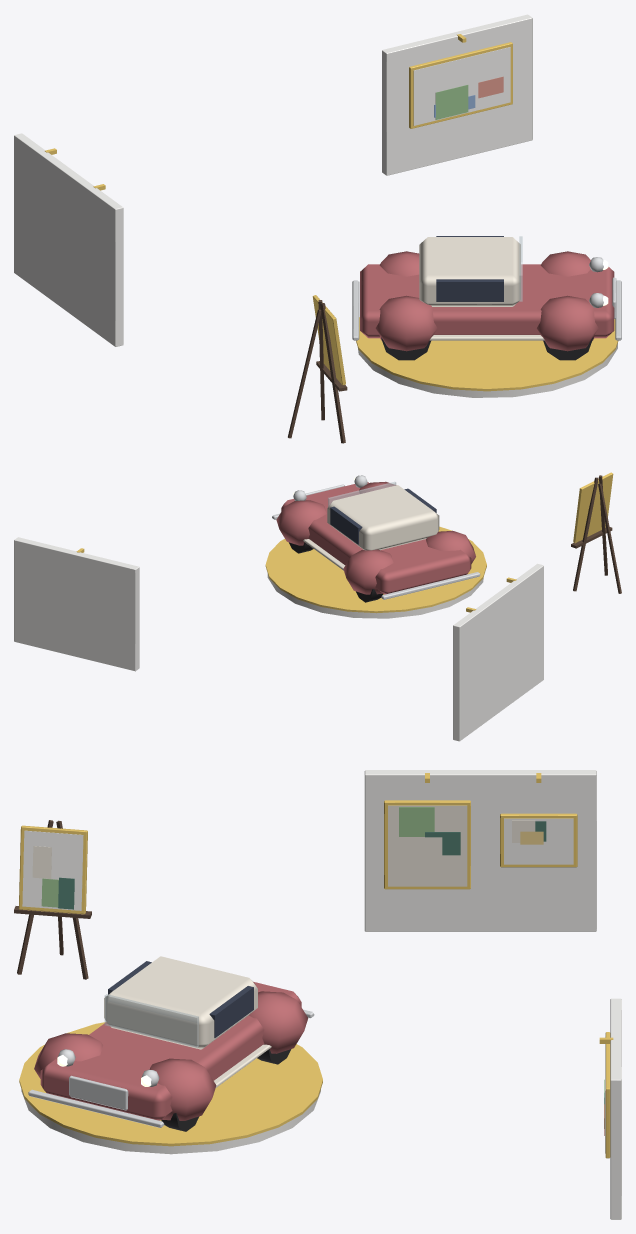
Rendered from einrichtung_kunstsalon_buehne.glb.
3 views of the same model, one above another, from view 1: azimuth 30°, elevation 25°; view 2: azimuth 150°, elevation 25°; view 3: azimuth 270°, elevation 25° (orthographic). The views are drawn at different scales.
Visible parts, largest first — view 1: einrichtung_kunstsalon_buehne; view 2: einrichtung_kunstsalon_buehne; view 3: einrichtung_kunstsalon_buehne.
Part boxes in pixels (x1,y1,x2,y2): einrichtung_kunstsalon_buehne: (14,14,621,443); einrichtung_kunstsalon_buehne: (14,472,621,741); einrichtung_kunstsalon_buehne: (14,770,621,1219).
Bounding box in the file's own units: 7.16 × 1.85 × 6.29.
